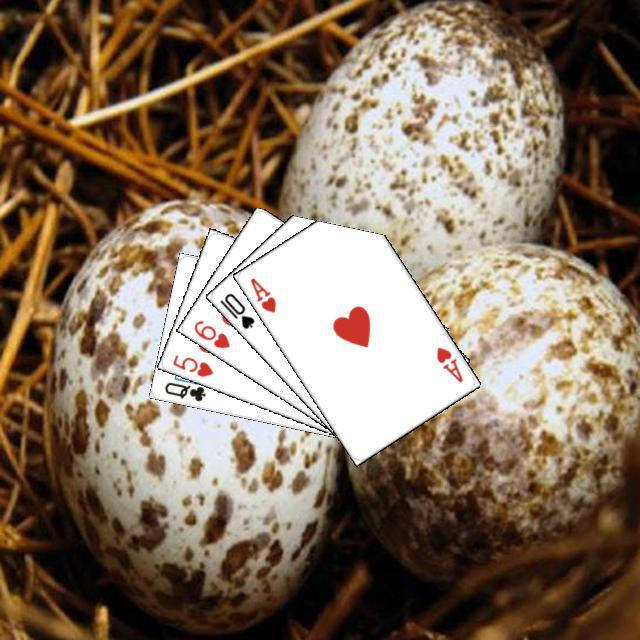10s: (215, 288, 256, 331)
5h: (168, 350, 215, 379)
6h: (189, 315, 232, 350)
Ah: (431, 342, 465, 384), (245, 273, 278, 315)
Qc: (160, 371, 213, 403)
